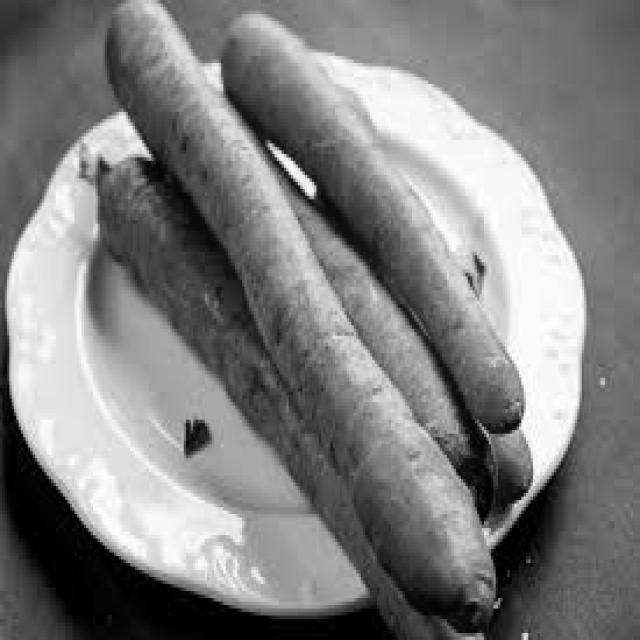Stale_Carrot: (107, 0, 503, 623)
